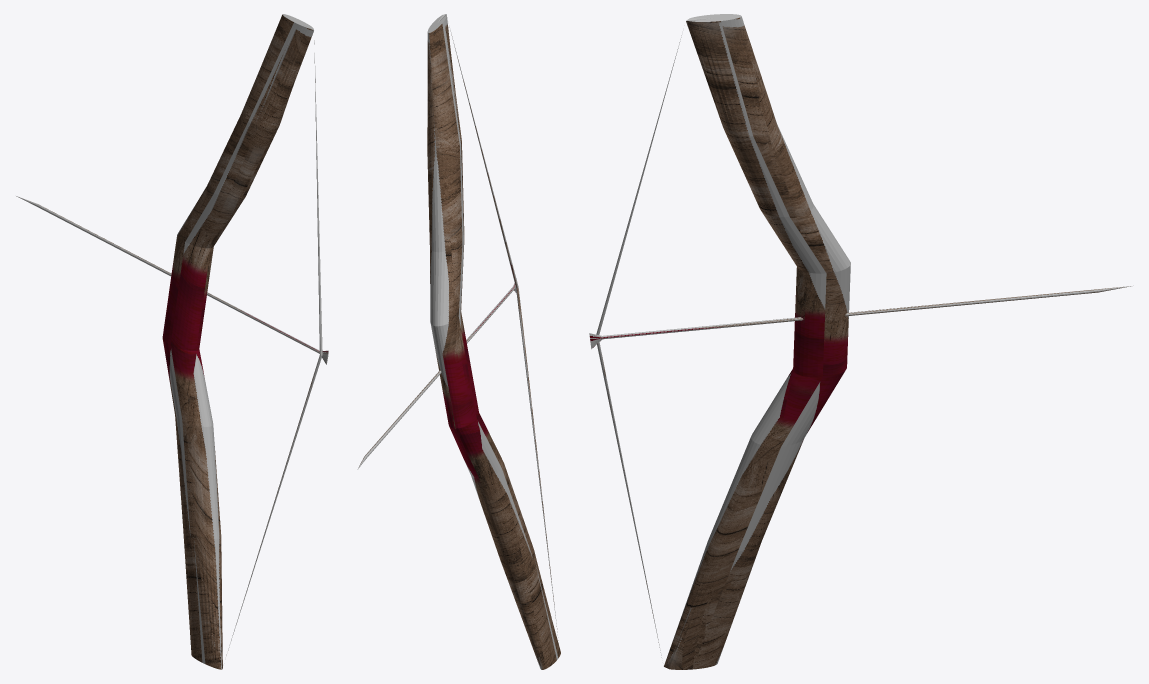
File: Arco4.obj
The picture shows the model from 3 angles, left to right: view 1: azimuth 30°, elevation 25°; view 2: azimuth 150°, elevation 25°; view 3: azimuth 270°, elevation 25°; orthographic projection. The views are drawn at different scales.
Parts seen in each view (by area): view 1: Cilindro; view 2: Cilindro; view 3: Cilindro.
Part boxes in pixels (bbox=[...]): Cilindro: bbox=[16, 14, 328, 669]; Cilindro: bbox=[357, 14, 560, 669]; Cilindro: bbox=[589, 14, 1133, 669].
Size of the model in its own units: 0.1886 by 0.9705 by 0.6791.
Materials: 1 (1 with a texture image).
